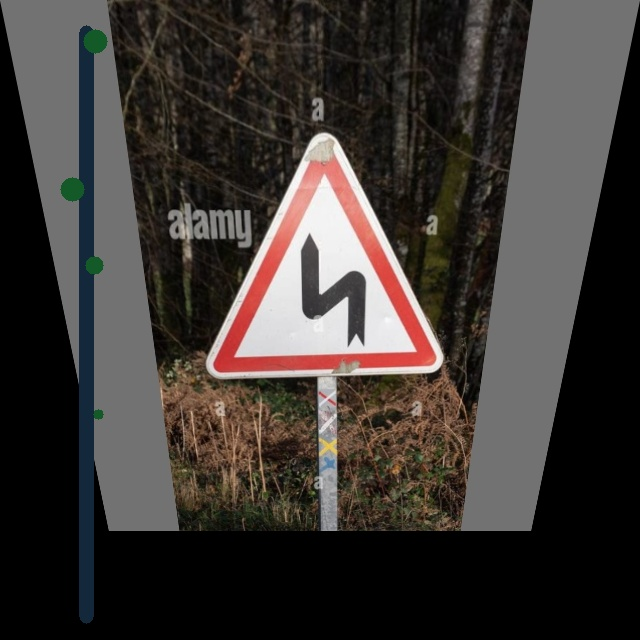Left_Reverse_Bend: (184, 135, 473, 381)
